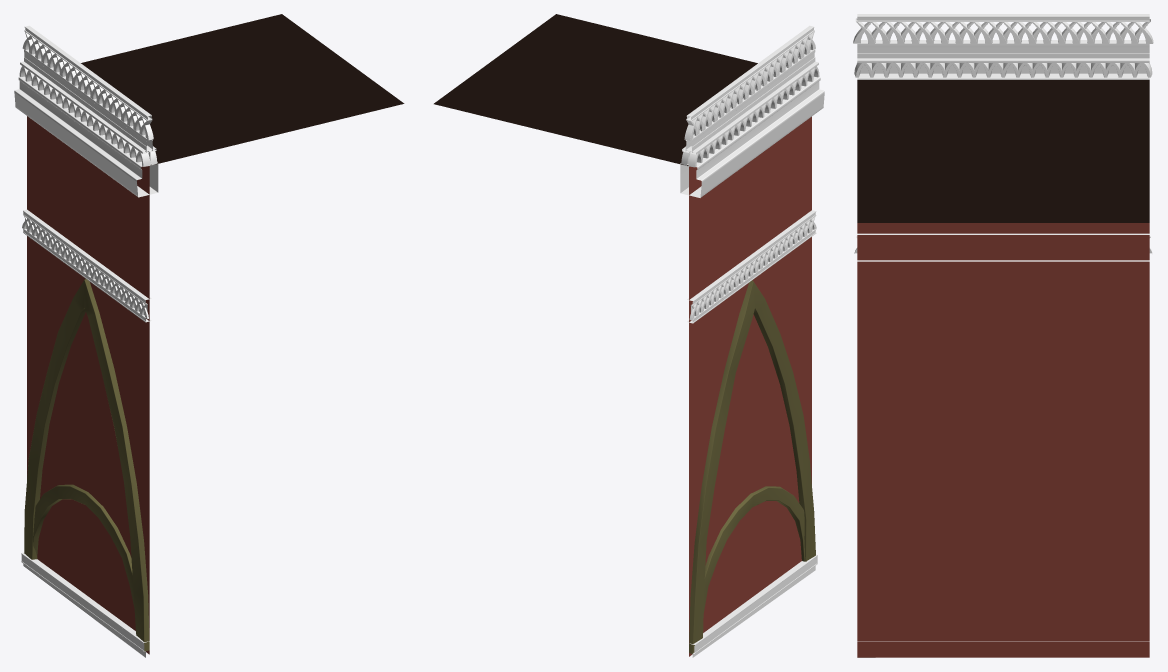
The model's file is Geonosis_Gallery01_Tall5m.fbx.
The picture shows the model from 3 angles, left to right: view 1: azimuth 30°, elevation 25°; view 2: azimuth 150°, elevation 25°; view 3: azimuth 270°, elevation 25°; orthographic projection. The views are drawn at different scales.
Visible parts, largest first — view 1: Geonosis_Gallery01_Tall; view 2: Geonosis_Gallery01_Tall; view 3: Geonosis_Gallery01_Tall.
Boxes of the visible parts, box(x1,y1,x2,y2) form: Geonosis_Gallery01_Tall: box(14, 14, 404, 657); Geonosis_Gallery01_Tall: box(434, 14, 824, 657); Geonosis_Gallery01_Tall: box(853, 14, 1153, 657).
Size of the model in its own units: 630 by 1218 by 513.
